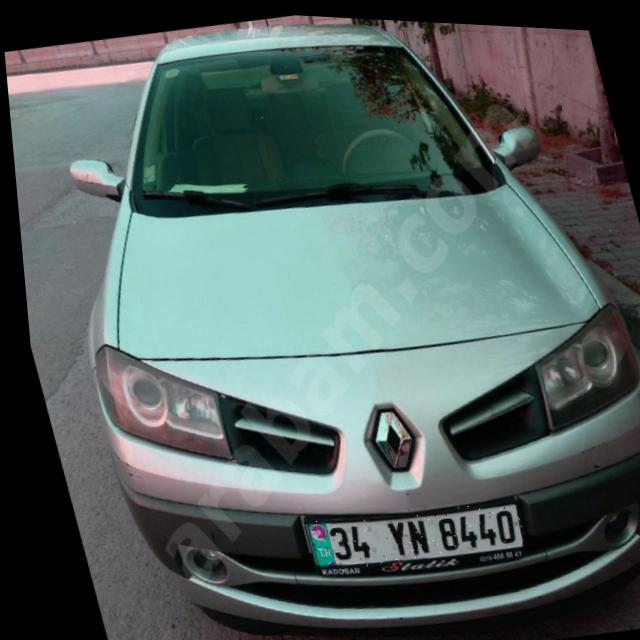license_plate: (289, 481, 522, 580)
